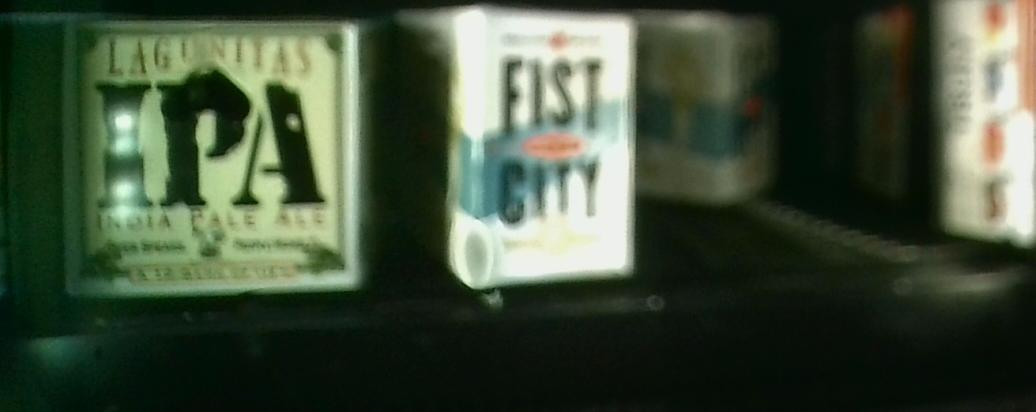bottle: (60, 15, 370, 290), (400, 9, 636, 277), (643, 12, 778, 194)
